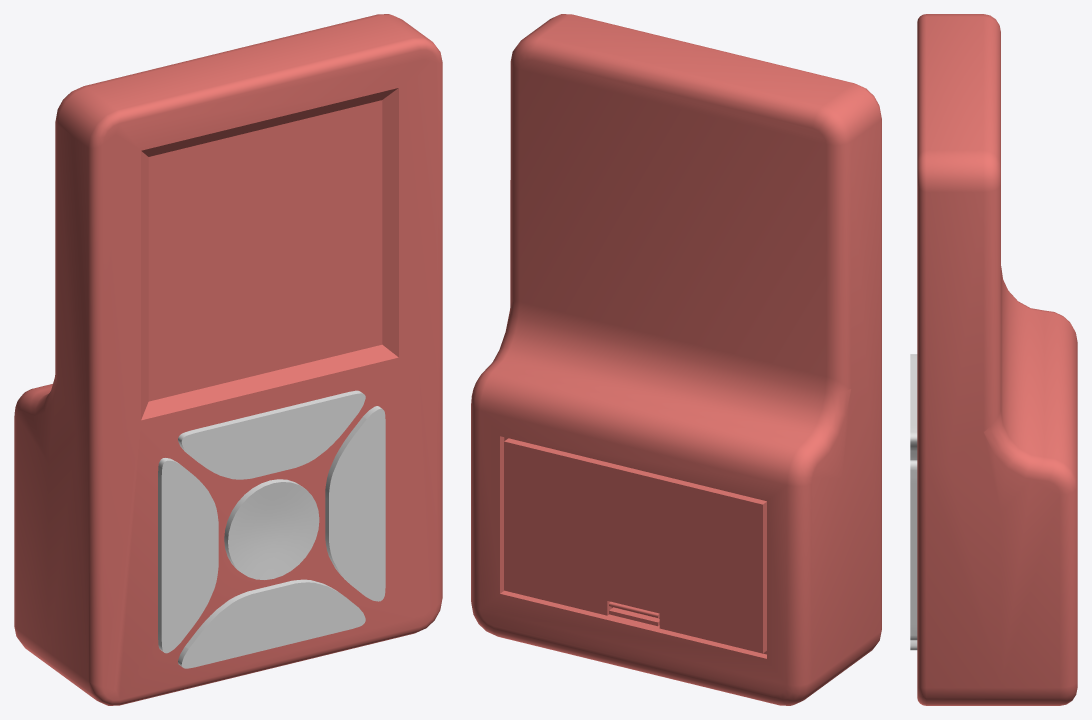
Rendered from case.glb.
3 views of the same model, side by side, from view 1: azimuth 30°, elevation 25°; view 2: azimuth 150°, elevation 25°; view 3: azimuth 270°, elevation 25° (orthographic). The views are drawn at different scales.
Visible parts, largest first — view 1: Case.006, Right Button.003, Down Button.003, Left Button.003, Up Button.003, Center Button.003; view 2: Case.006; view 3: Case.006, Right Button.003, Up Button.003.
Boxes of the visible parts, bbox=[...] form: Case.006: bbox=[14, 14, 442, 705]; Right Button.003: bbox=[325, 406, 385, 601]; Down Button.003: bbox=[178, 579, 365, 668]; Left Button.003: bbox=[158, 458, 218, 653]; Up Button.003: bbox=[178, 390, 365, 479]; Center Button.003: bbox=[224, 479, 319, 579]; Case.006: bbox=[471, 14, 881, 705]; Case.006: bbox=[917, 14, 1077, 705]; Right Button.003: bbox=[910, 460, 917, 640]; Up Button.003: bbox=[910, 354, 917, 459].
Bounding box in the file's own units: 9.05 × 14.56 × 4.
